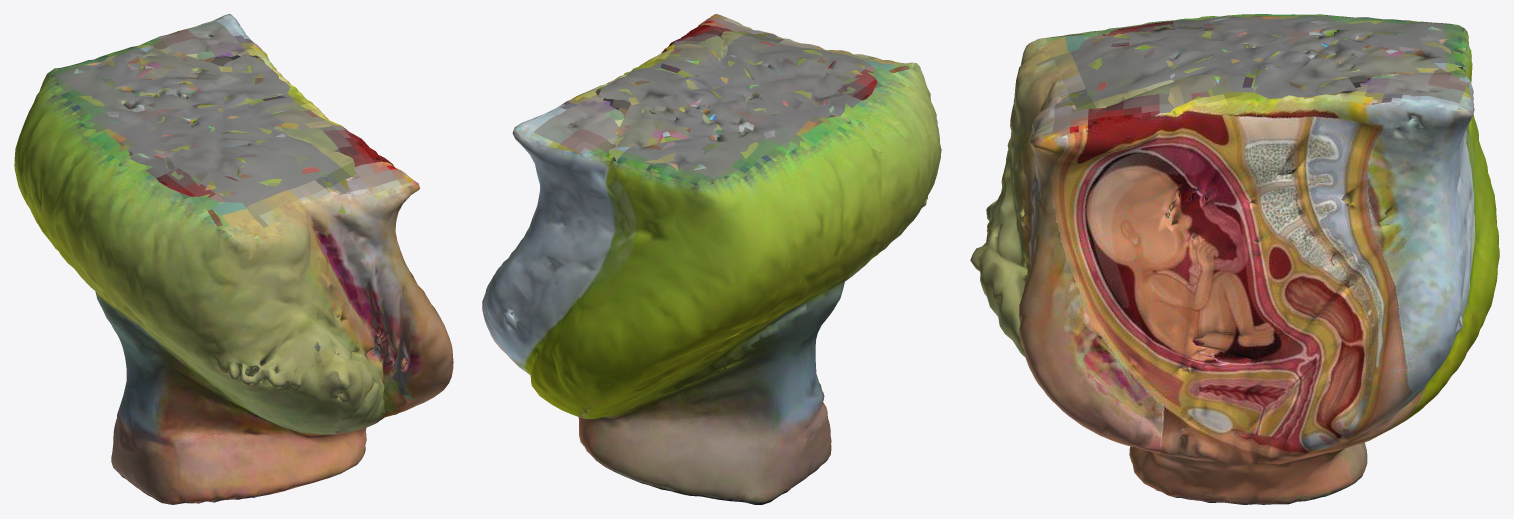
Rendered from pregnantwomen.glb.
3 views of the same model, side by side, from view 1: azimuth 30°, elevation 25°; view 2: azimuth 150°, elevation 25°; view 3: azimuth 270°, elevation 25° (orthographic). The views are drawn at different scales.
Visible parts, largest first — view 1: Mesh1; view 2: Mesh1; view 3: Mesh1.
Boxes of the visible parts, box(x1,y1,x2,y2) form: Mesh1: box(14, 14, 453, 504); Mesh1: box(482, 14, 941, 504); Mesh1: box(970, 14, 1499, 504).
Size of the model in its own units: 0.9206 by 1.05 by 1.2.
1 material, 1 textured.
